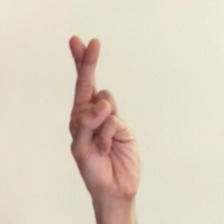R: (43, 24, 163, 206)
